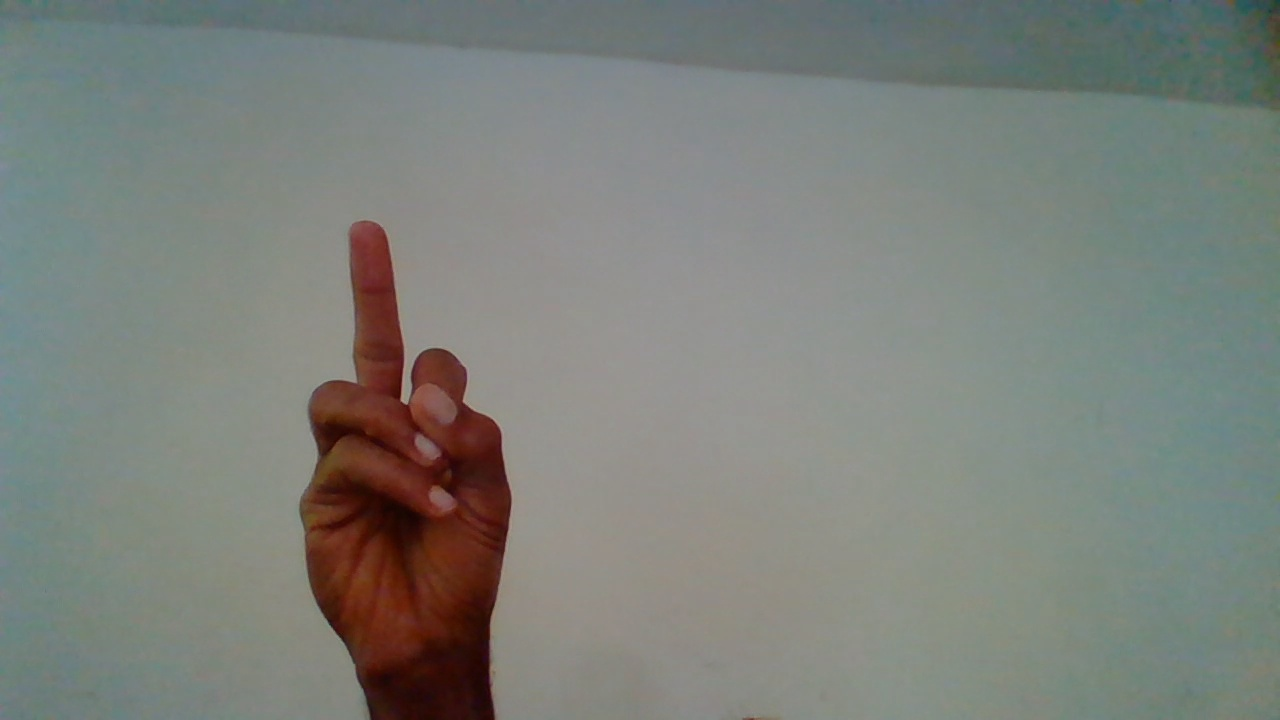he: (297, 219, 507, 702)
